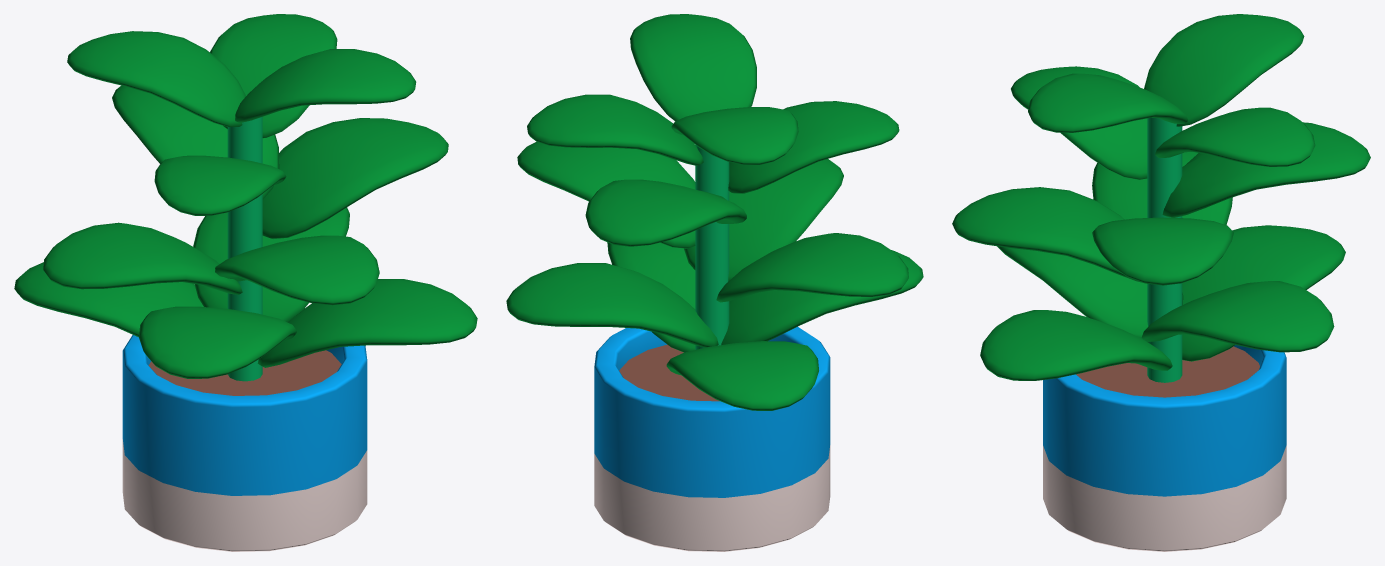
The model's file is Town_19_Plant_4.glb.
3 views of the same model, side by side, from view 1: azimuth 30°, elevation 25°; view 2: azimuth 150°, elevation 25°; view 3: azimuth 270°, elevation 25° (orthographic). The views are drawn at different scales.
Parts seen in each view (by area): view 1: Town_19_Plant_4; view 2: Town_19_Plant_4; view 3: Town_19_Plant_4.
Part boxes in pixels (x1,y1,x2,y2): Town_19_Plant_4: (14,14,477,551); Town_19_Plant_4: (506,14,923,551); Town_19_Plant_4: (952,14,1370,551).
Bounding box in the file's own units: 1.62 × 1.76 × 1.51.
1 material, 1 textured.
